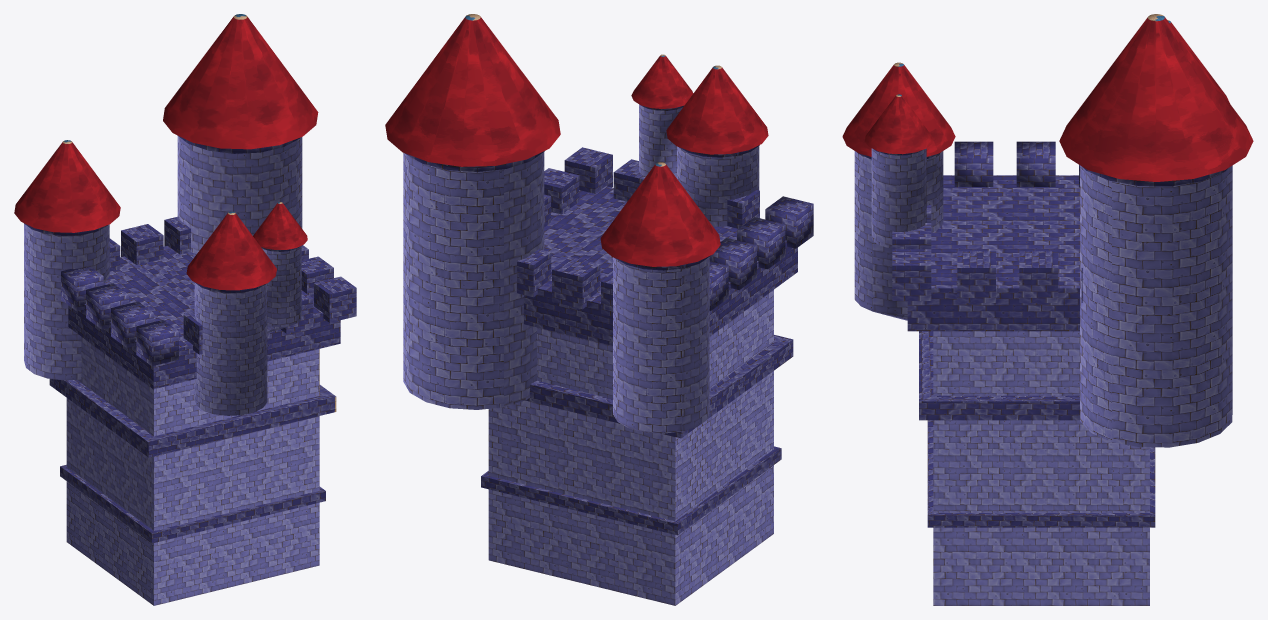
The model's file is Castle.fbx.
3 views of the same model, side by side, from view 1: azimuth 30°, elevation 25°; view 2: azimuth 150°, elevation 25°; view 3: azimuth 270°, elevation 25° (orthographic). The views are drawn at different scales.
Visible parts, largest first — view 1: Cube.008, Cylinder.012; view 2: Cube.008, Cylinder.012; view 3: Cube.008, Cylinder.012.
Boxes of the visible parts, <box> form: Cube.008: <box>24,135,356,605</box>; Cylinder.012: <box>14,14,318,290</box>; Cube.008: <box>403,104,813,605</box>; Cylinder.012: <box>385,14,768,266</box>; Cube.008: <box>854,141,1232,605</box>; Cylinder.012: <box>842,14,1253,181</box>.
Size of the model in its own units: 1880 by 3037 by 1902.
